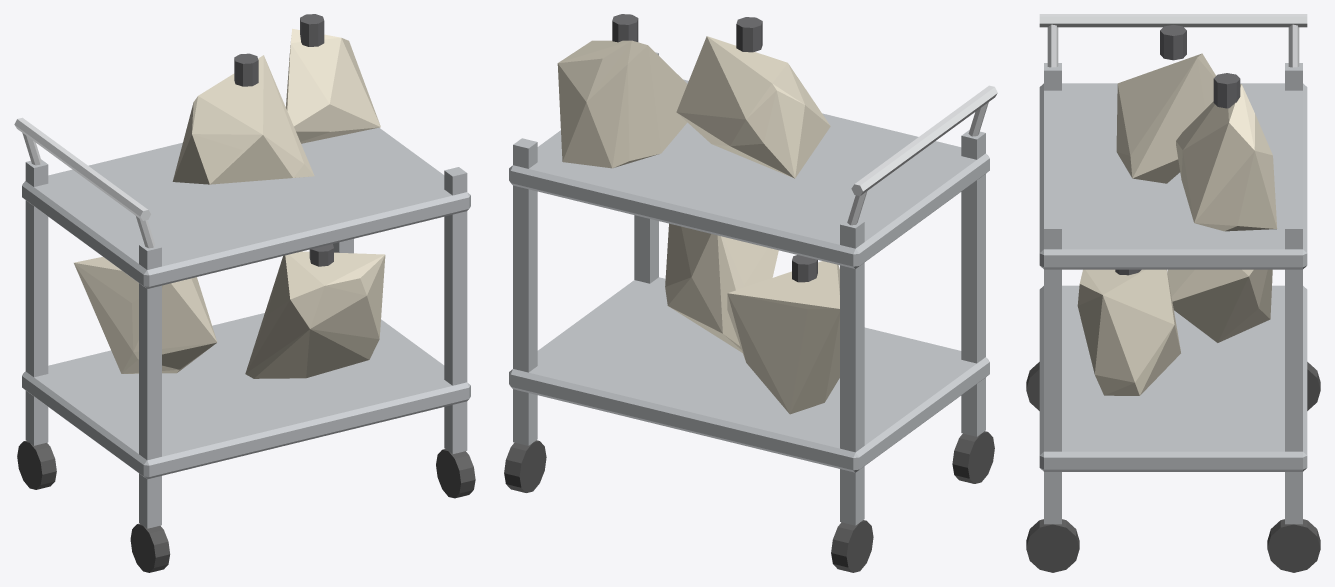
File: cash_cart.glb
The picture shows the model from 3 angles, left to right: view 1: azimuth 30°, elevation 25°; view 2: azimuth 150°, elevation 25°; view 3: azimuth 270°, elevation 25°; orthographic projection. The views are drawn at different scales.
Parts seen in each view (by area): view 1: cash_cart_steel, cash_cart_fabric, cash_cart_rubber, cash_cart_chrome, cash_cart_dark; view 2: cash_cart_steel, cash_cart_fabric, cash_cart_rubber, cash_cart_chrome, cash_cart_dark; view 3: cash_cart_steel, cash_cart_fabric, cash_cart_rubber, cash_cart_chrome, cash_cart_dark.
Boxes of the visible parts, x1,y1,x2,y2 form: cash_cart_steel: (22,127,470,528); cash_cart_fabric: (74,28,385,378); cash_cart_rubber: (17,440,475,572); cash_cart_chrome: (14,117,154,248); cash_cart_dark: (234,14,333,266); cash_cart_steel: (509,52,989,525); cash_cart_fabric: (557,36,839,414); cash_cart_rubber: (504,431,994,572); cash_cart_chrome: (847,85,997,225); cash_cart_dark: (612,14,817,282); cash_cart_steel: (1039,63,1307,524); cash_cart_fabric: (1077,53,1277,395); cash_cart_rubber: (1026,362,1320,572); cash_cart_chrome: (1039,14,1307,67); cash_cart_dark: (1115,25,1240,275).
Size of the model in its own units: 0.915 by 1.14 by 0.66.
